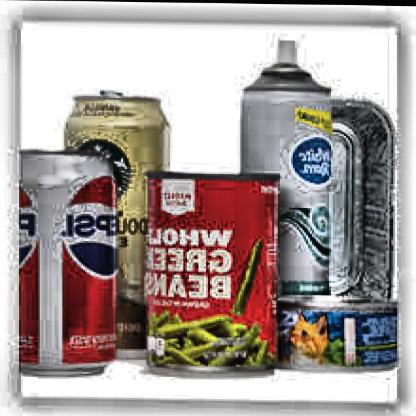Can: (140, 166, 282, 382), (238, 35, 334, 302), (14, 147, 121, 381), (273, 292, 405, 376)
